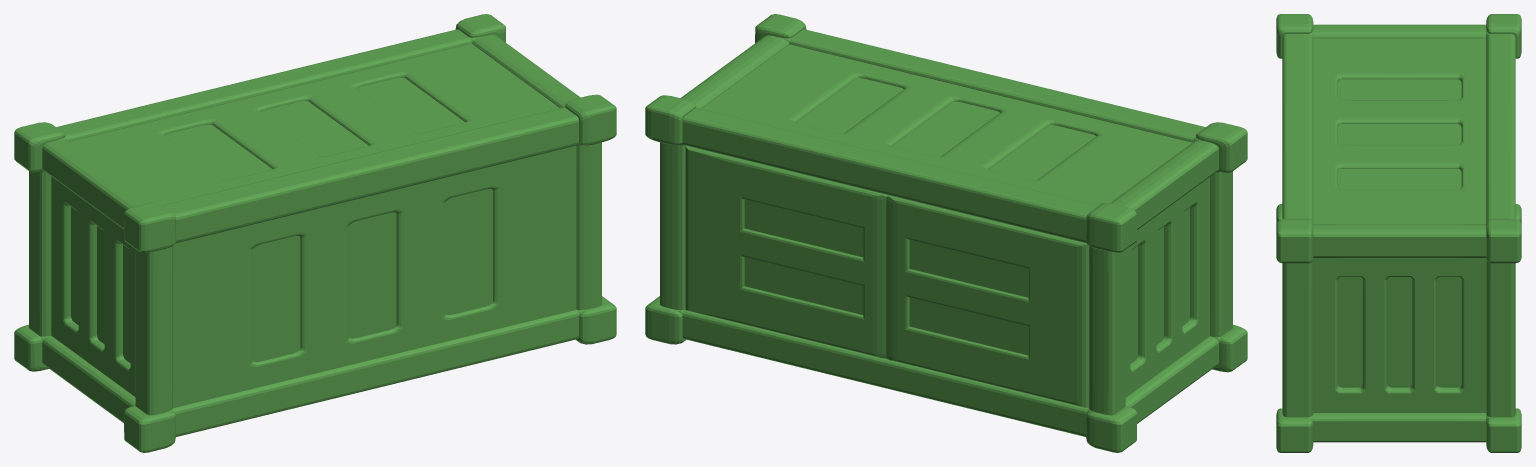
The model's file is cargo_green.fbx.
3 views of the same model, side by side, from view 1: azimuth 30°, elevation 25°; view 2: azimuth 150°, elevation 25°; view 3: azimuth 270°, elevation 25° (orthographic). The views are drawn at different scales.
Parts seen in each view (by area): view 1: Cube.022; view 2: Cube.022; view 3: Cube.022.
Part boxes in pixels (x1=…): Cube.022: x1=14, y1=14, x2=616, y2=452; Cube.022: x1=645, y1=14, x2=1247, y2=452; Cube.022: x1=1276, y1=14, x2=1521, y2=452.
Size of the model in its own units: 3.65 by 1.71 by 1.71.
